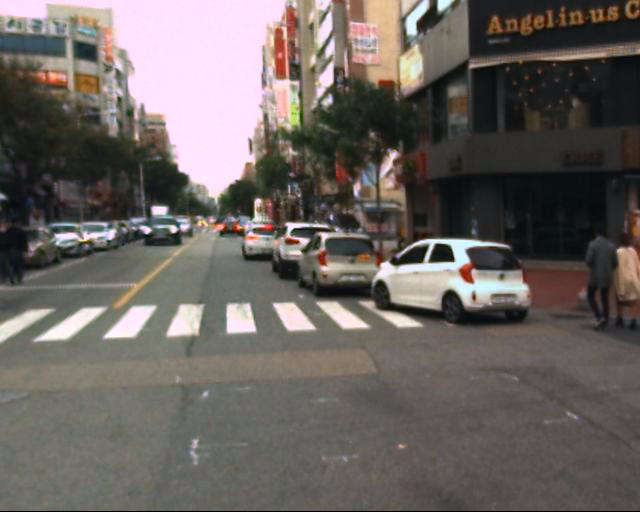person: (575, 217, 624, 338), (602, 229, 640, 335), (0, 207, 41, 290)
